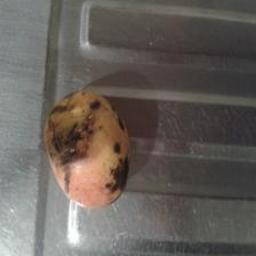Mango Rotten: (30, 80, 133, 218)
